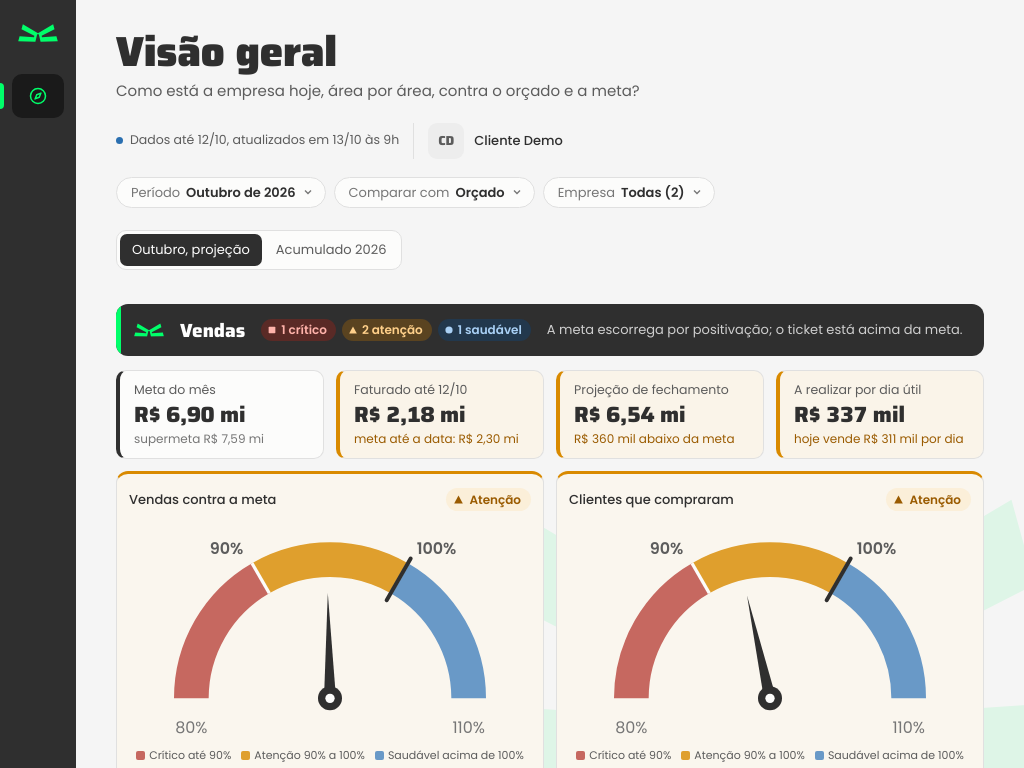
Test: Visão geral › o chip de filtro abre um menu navegável por teclado e só troca o rótulo
The image size is (1024, 768).
Expected: the heading "Vendas" is shown, [180,316,245,344]
Click the button "Comparar com Orçado" at (434, 192), box [334,176,535,208]
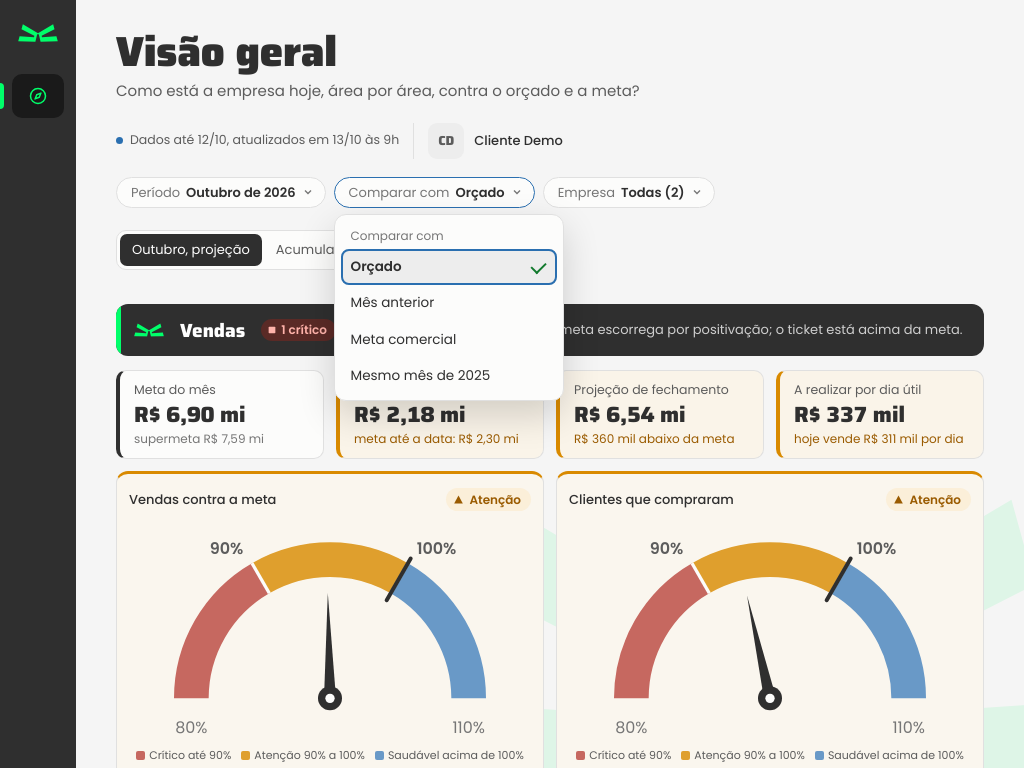
Press Arrowdown
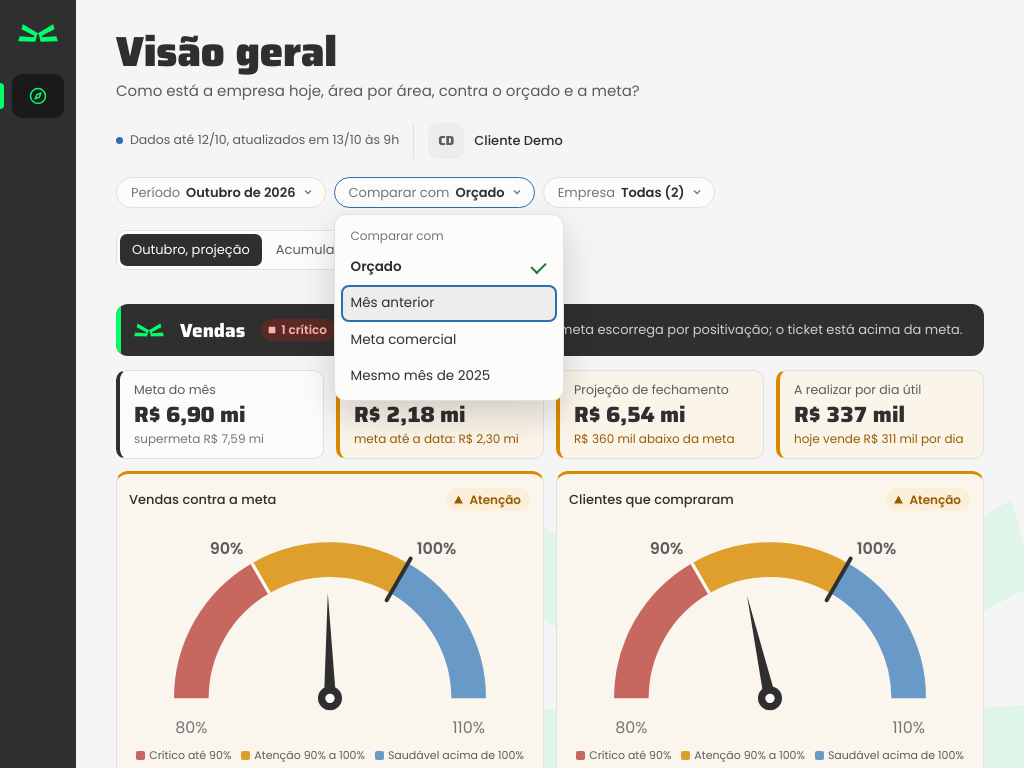
Press Enter
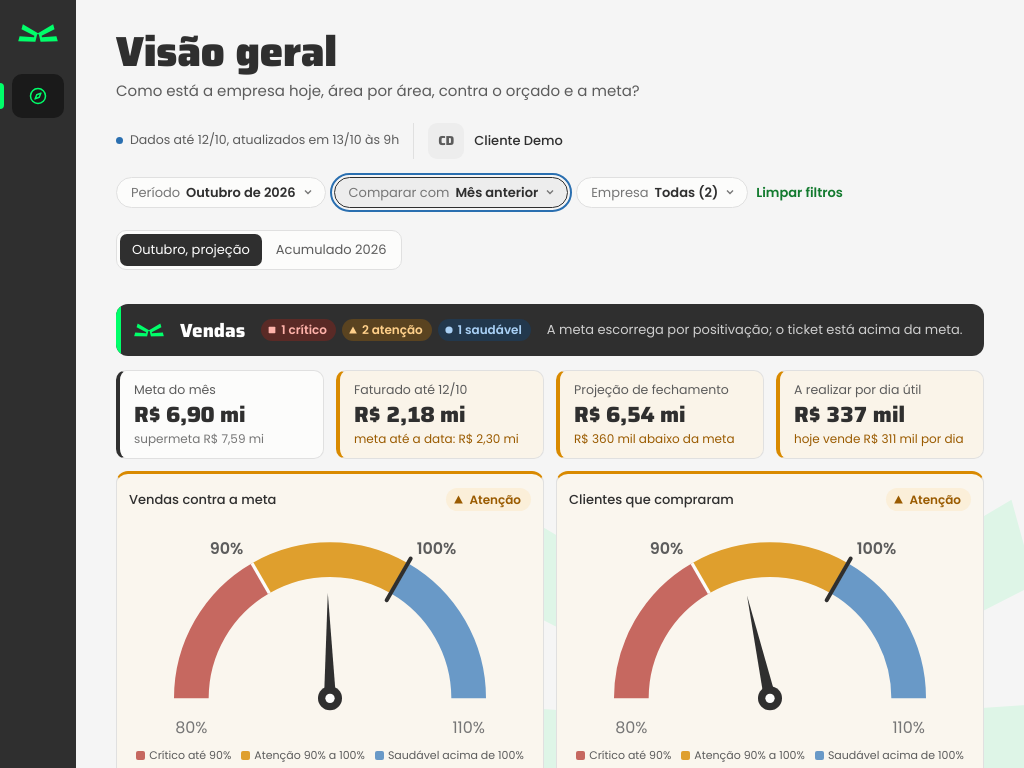
Expected: the menu is gone
Expected: the button "Comparar com Mês anterior" is shown, [334,176,568,208]
Expected: the button "Limpar filtros" is shown, [756,182,843,202]
